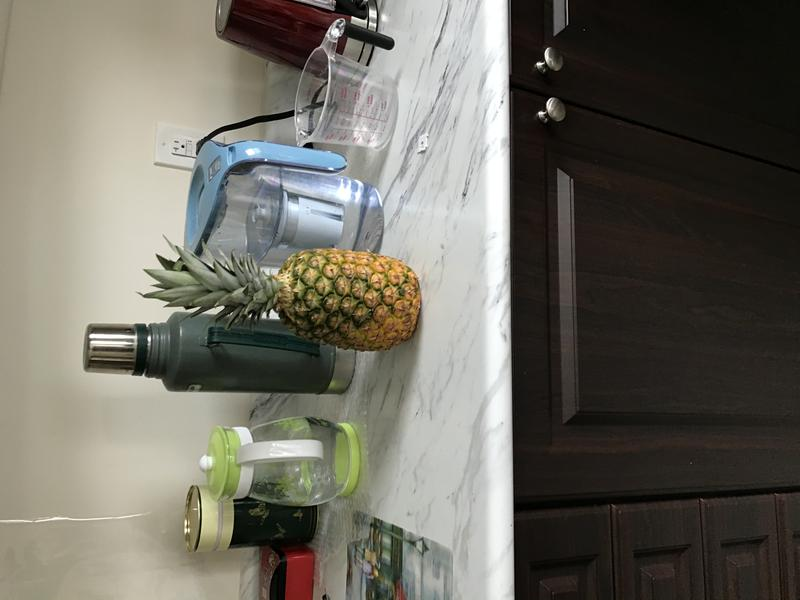pineapple: (131, 229, 425, 358)
